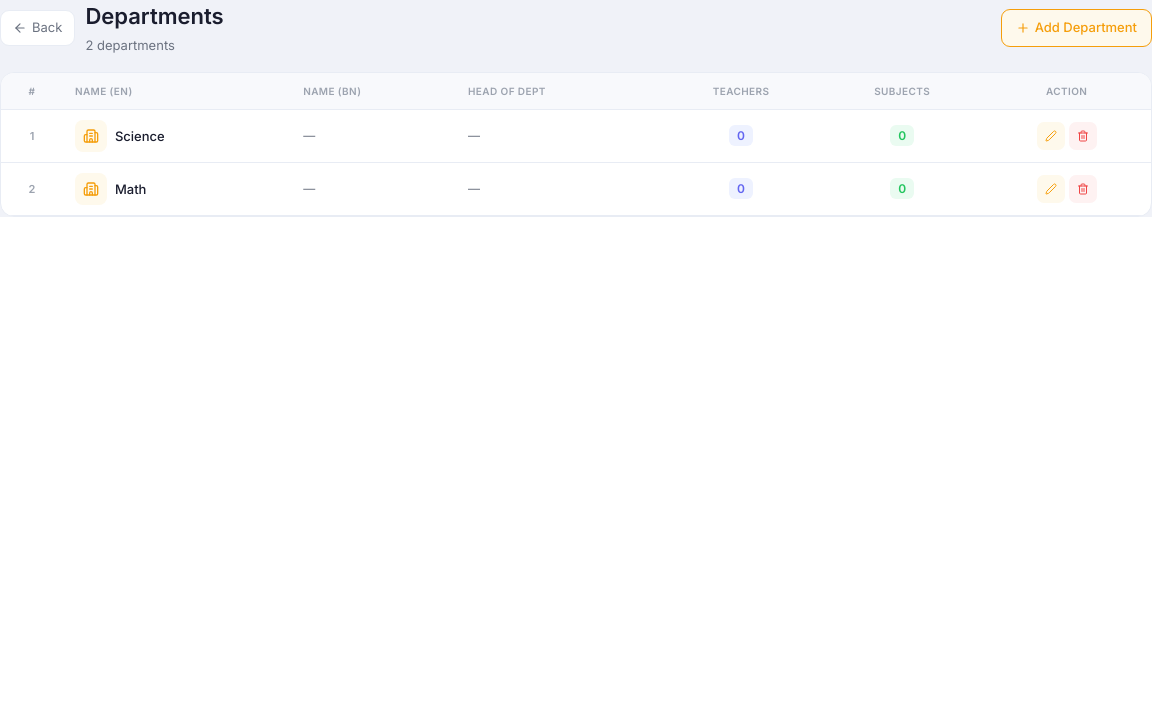
DepartmentsPage — Phase 7 server flows › create refusal (409) shows the server message and keeps the modal open
Click the button "Add Department".
click(1076, 28)  # box [1001,9,1151,46]
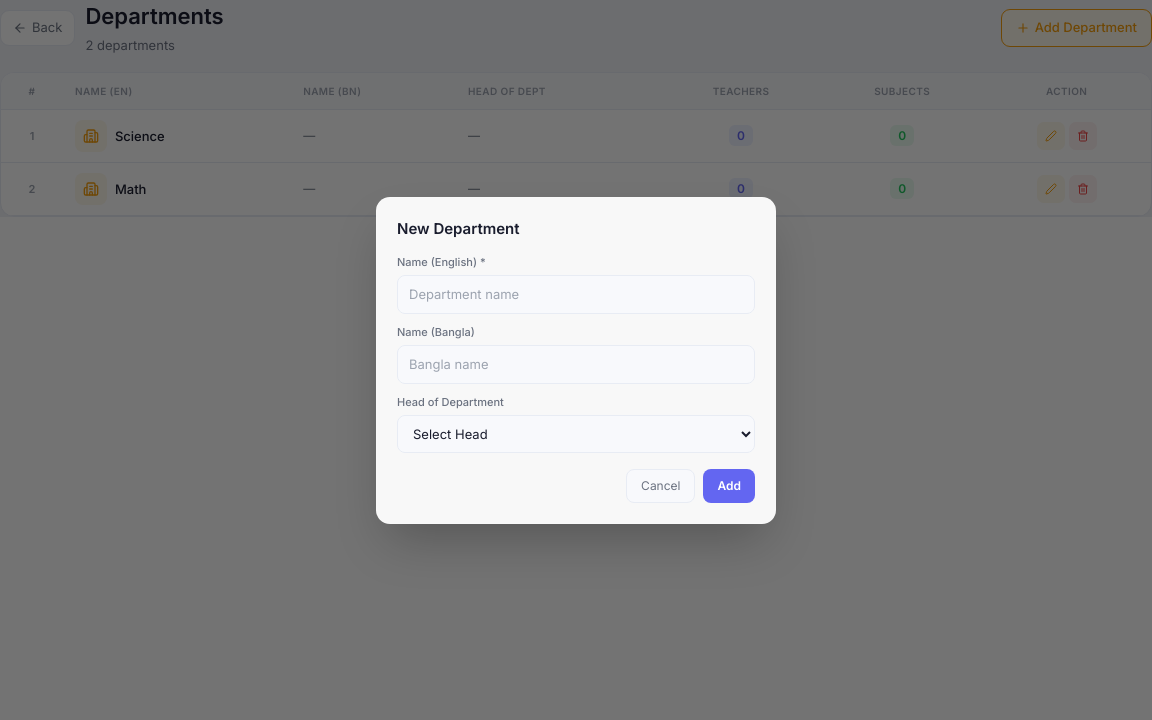
Type "Science" into the field with placeholder "Department name".
click(576, 294); type("Science")  # box [397,274,755,314]
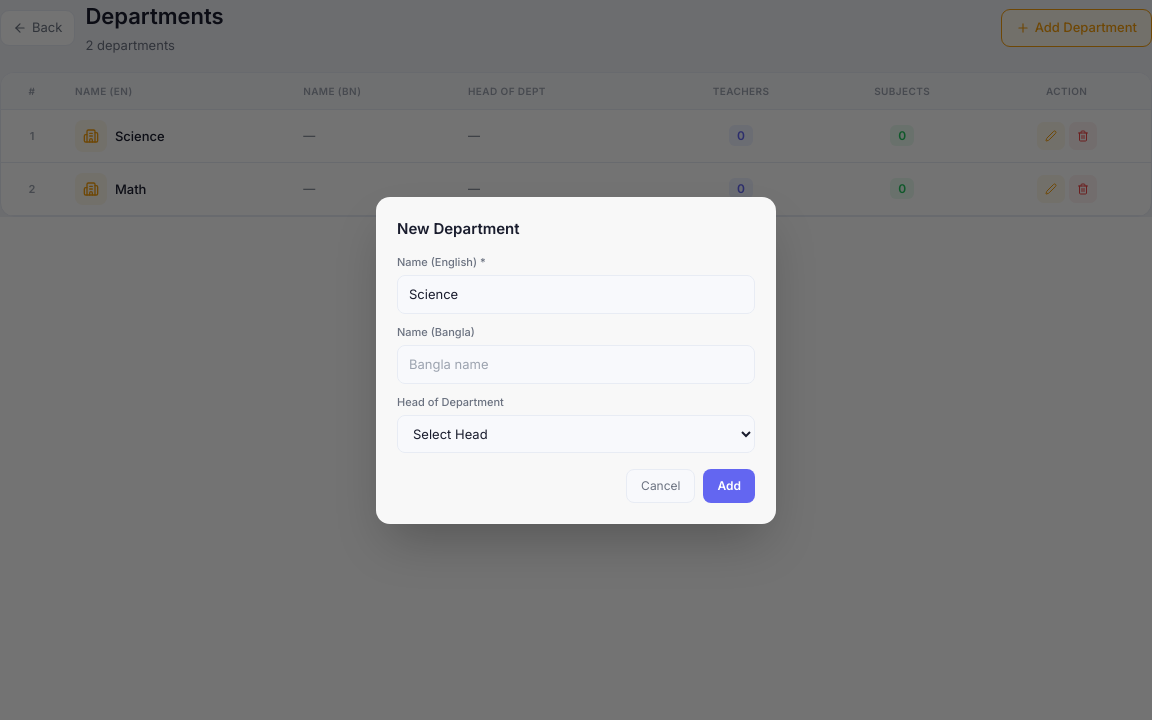
Click the button "Add".
click(729, 486)  # box [704,468,755,502]
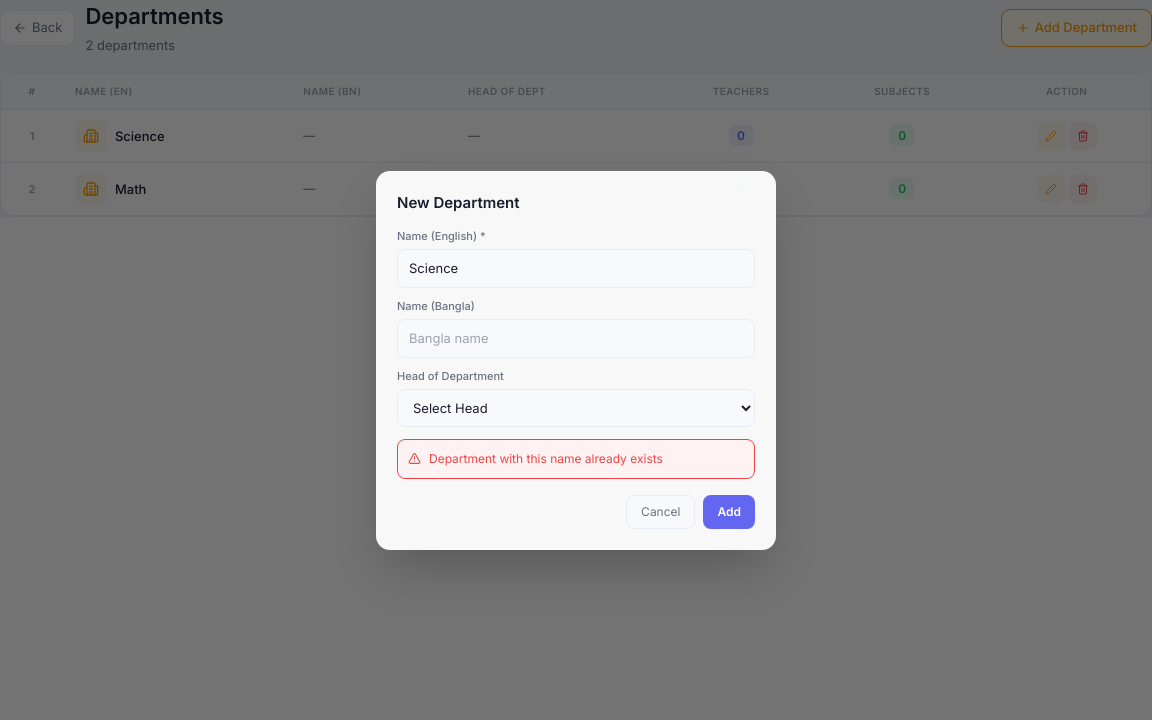
Expected: the text "Science" is shown, [115,128,165,144]
Now the heading "New Department" is shown, box [397,192,520,212]
Now the text "Department with this name already exists" is shown, box [397,438,755,478]
